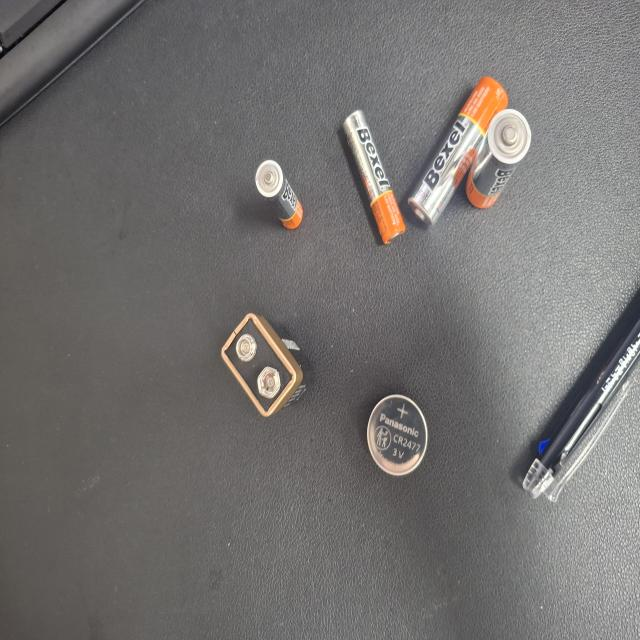9V: (168, 295, 245, 416)
AA: (311, 544, 421, 640), (324, 621, 398, 640)
AAA: (298, 458, 398, 540), (308, 341, 360, 404)
COIN: (123, 490, 184, 570)
